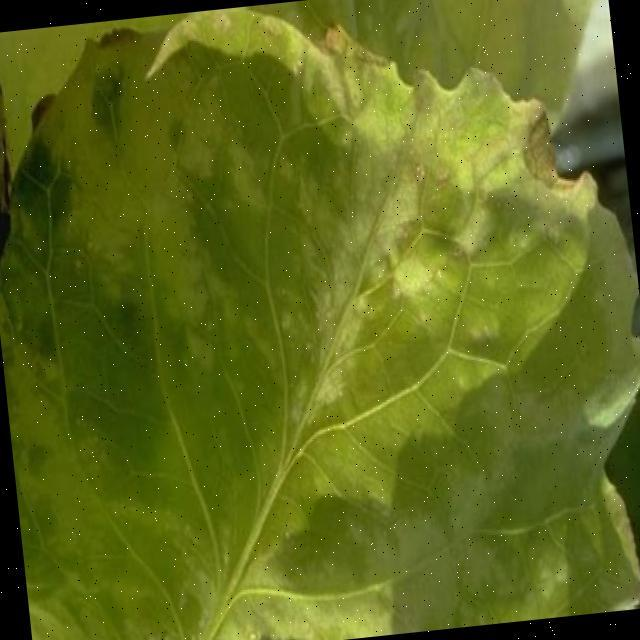Lettuce Mosaic Virus: (7, 81, 554, 640)
